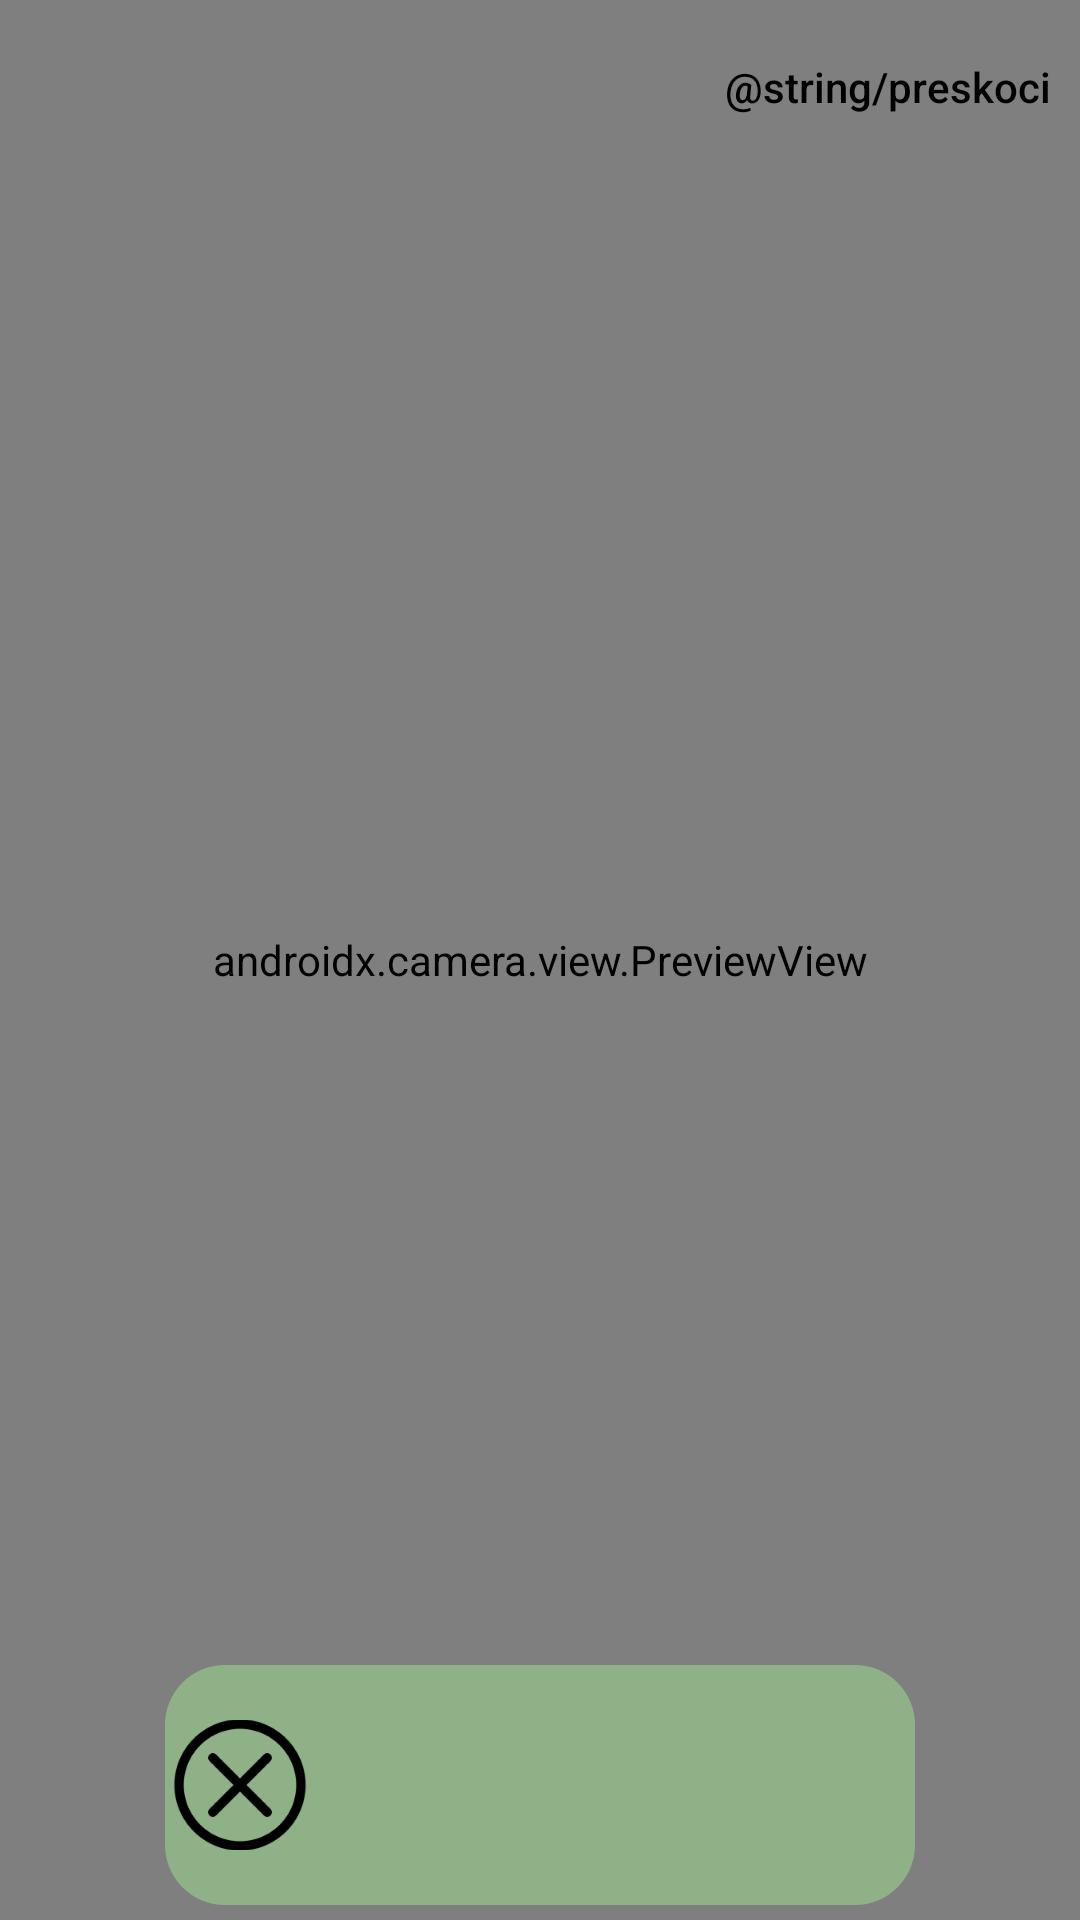

Where icons sit on this 1080px x 1920px app screen, as (x1, y1, x2, y2):
close circle: (174, 1720, 306, 1850)
